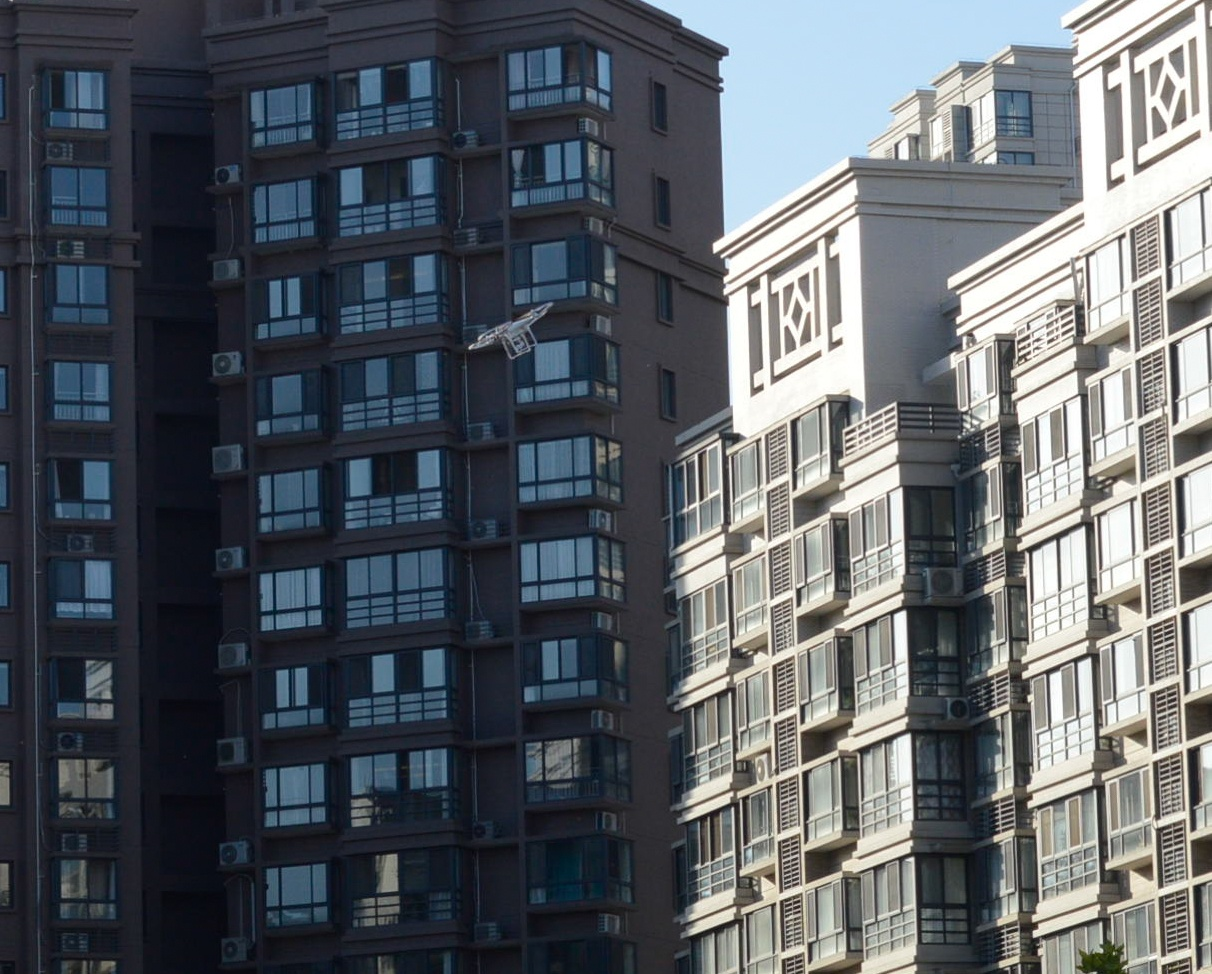DJI: (469, 303, 555, 359)
